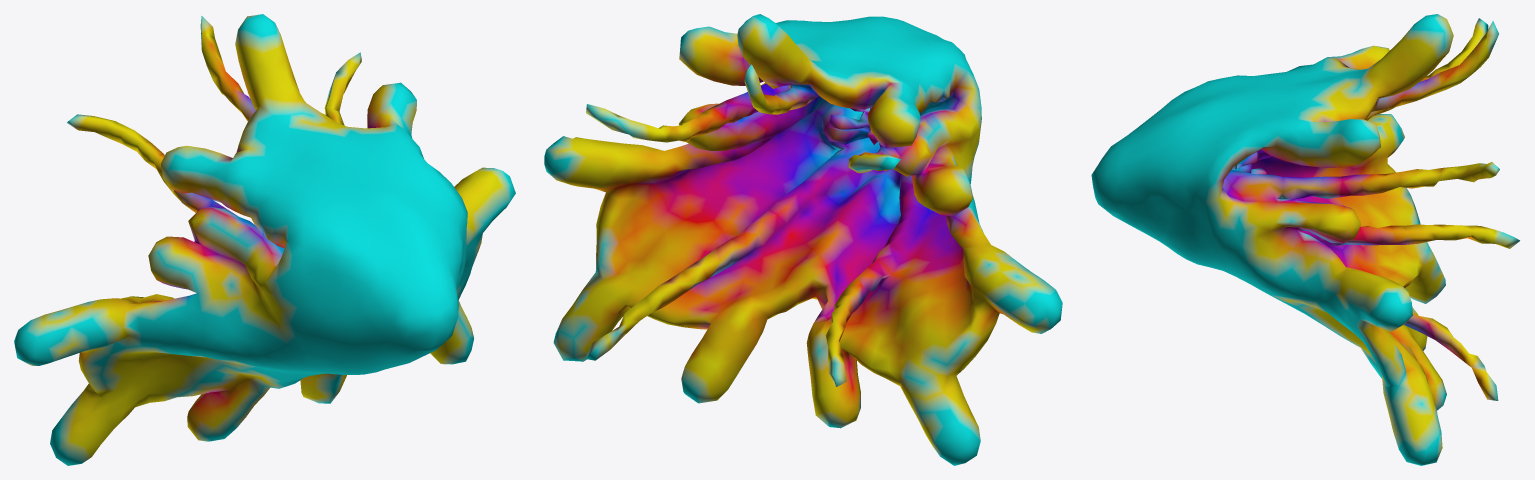
Rendered from jelly_35.gltf.
The picture shows the model from 3 angles, left to right: view 1: azimuth 30°, elevation 25°; view 2: azimuth 150°, elevation 25°; view 3: azimuth 270°, elevation 25°; orthographic projection. The views are drawn at different scales.
Parts seen in each view (by area): view 1: jellysquid3; view 2: jellysquid3; view 3: jellysquid3.
Part boxes in pixels (x1,y1,x2,y2): jellysquid3: (14, 14, 515, 465); jellysquid3: (544, 14, 1062, 465); jellysquid3: (1091, 14, 1519, 465).
Bounding box in the file's own units: 14.82 × 11.28 × 11.73.
